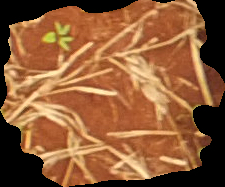soil: (1, 1, 225, 186)
